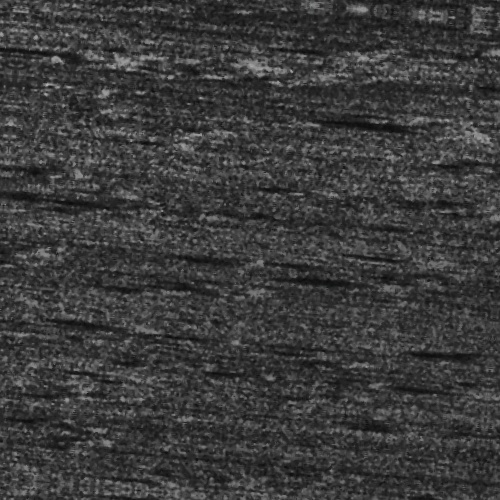object: (419, 105, 500, 118), (0, 262, 58, 275), (386, 264, 427, 281), (50, 64, 113, 73), (115, 332, 178, 339), (412, 240, 465, 245), (12, 348, 53, 353), (478, 333, 500, 338)
shadow: (299, 264, 406, 281), (339, 105, 460, 118), (9, 64, 81, 73), (80, 332, 146, 339), (428, 333, 500, 338), (369, 240, 438, 245), (0, 262, 26, 275), (0, 348, 32, 353), (489, 62, 500, 67)
